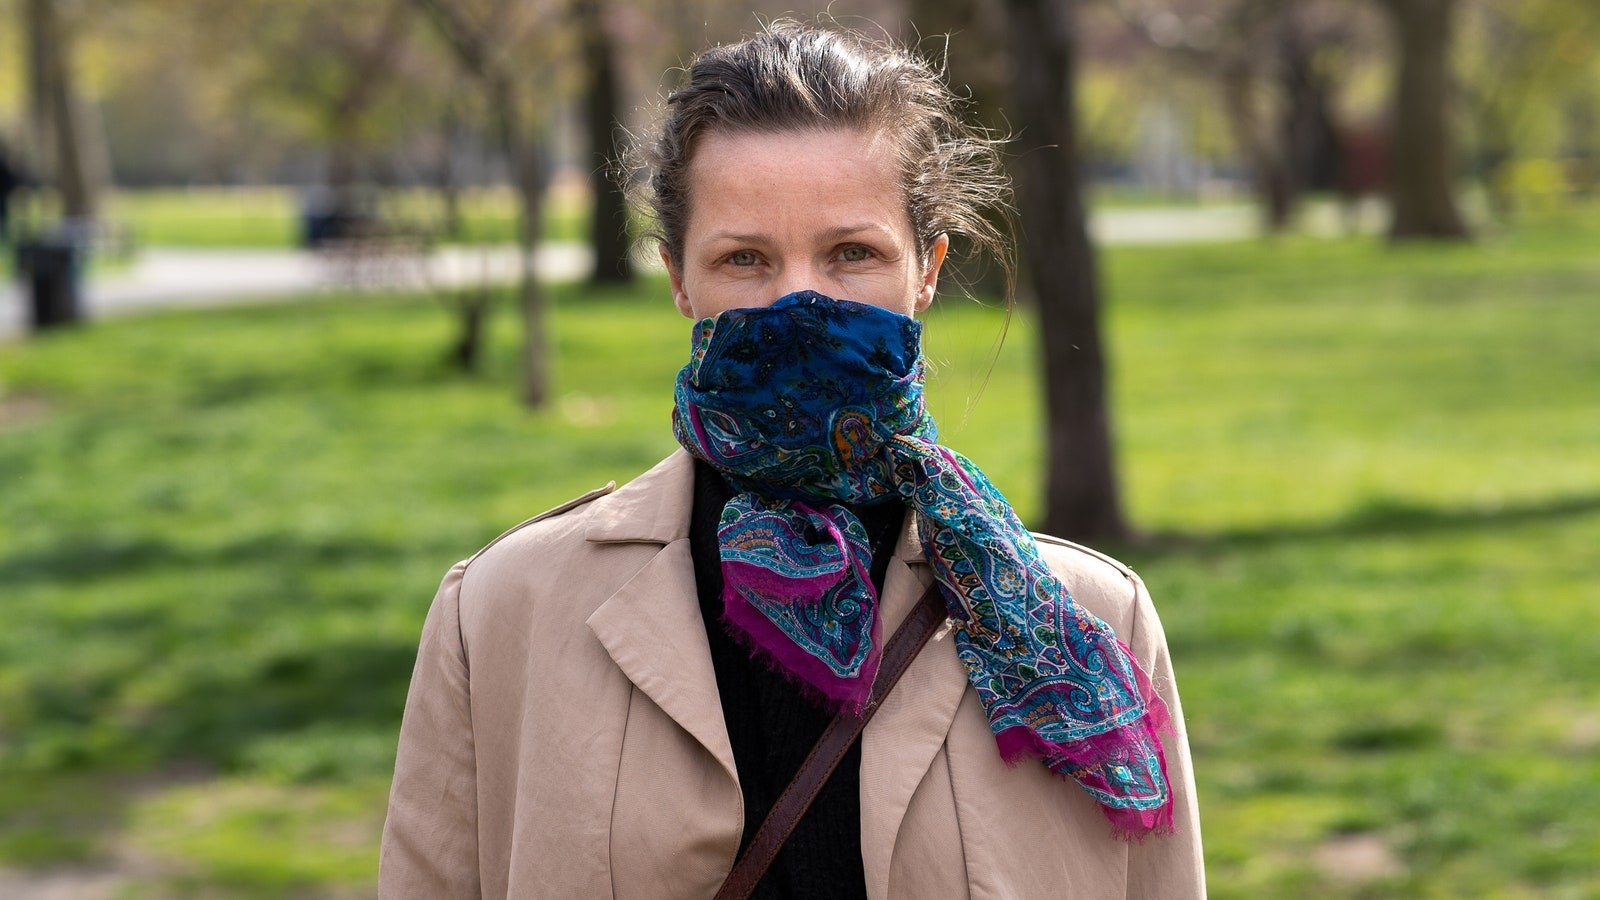face_with_mask: (646, 65, 964, 449)
